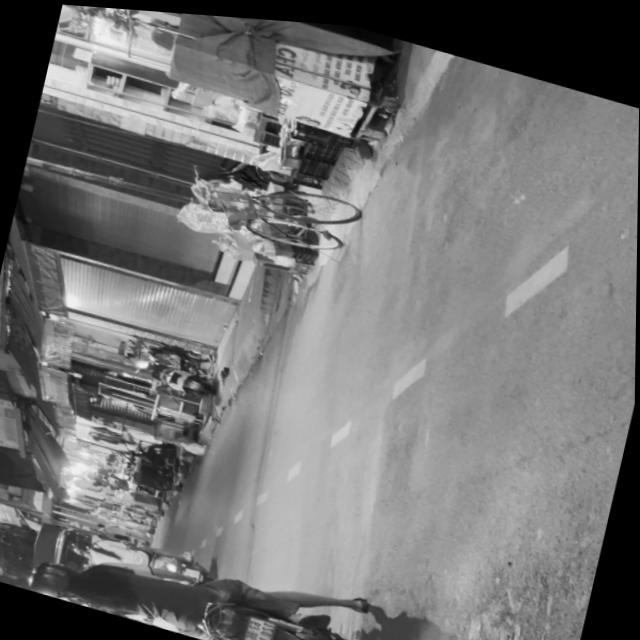helmet: (28, 556, 84, 601), (26, 565, 82, 602)
licenseplate: (22, 503, 389, 640)
nohelmet: (243, 611, 278, 640)
